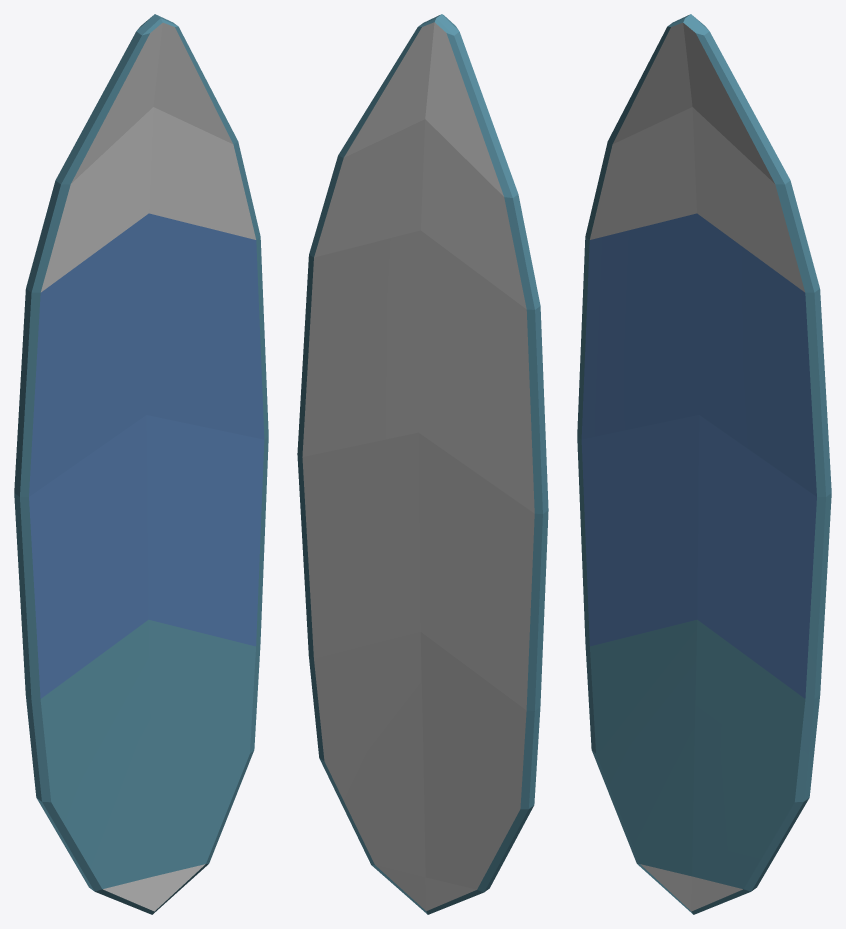
Rendered from SM_Props_SurfBoard_01.fbx.
3 views of the same model, side by side, from view 1: azimuth 30°, elevation 25°; view 2: azimuth 150°, elevation 25°; view 3: azimuth 330°, elevation 25° (orthographic).
Visible parts, largest first — view 1: SM_Props_SurfBoard_01; view 2: SM_Props_SurfBoard_01; view 3: SM_Props_SurfBoard_01.
Part boxes in pixels (x1,y1,x2,y2): SM_Props_SurfBoard_01: [14, 14, 268, 914]; SM_Props_SurfBoard_01: [297, 14, 548, 914]; SM_Props_SurfBoard_01: [577, 14, 831, 914].
Size of the model in its own units: 0.6903 by 2.39 by 0.1239.
